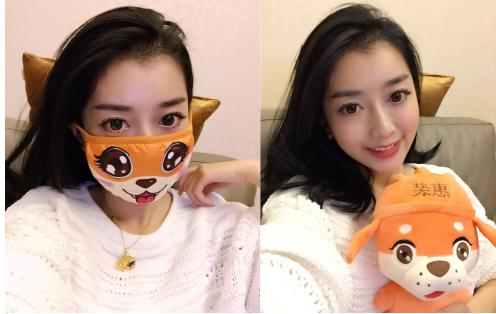NONE: (333, 77, 420, 168)
OK: (85, 96, 192, 203)
